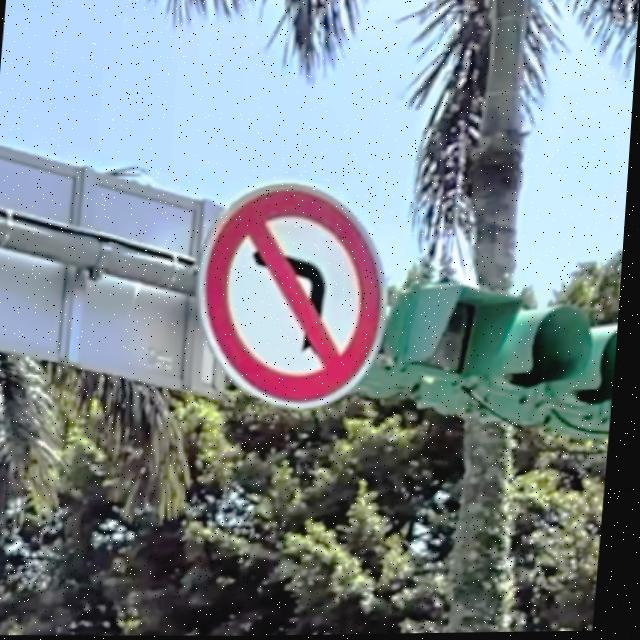noturnleft: (208, 186, 387, 403)
